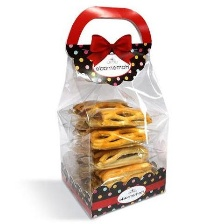snack: (48, 0, 177, 224)
